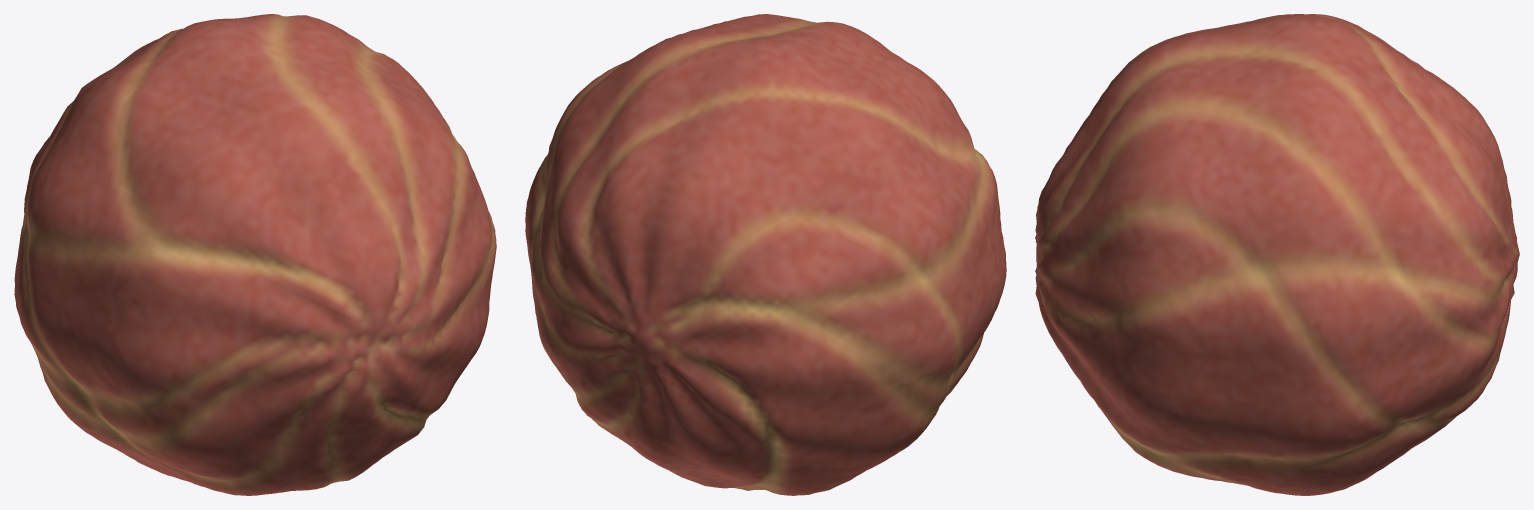
Rendered from planet_3.glb.
The picture shows the model from 3 angles, left to right: view 1: azimuth 30°, elevation 25°; view 2: azimuth 150°, elevation 25°; view 3: azimuth 270°, elevation 25°; orthographic projection.
Visible parts, largest first — view 1: world; view 2: world; view 3: world.
Part boxes in pixels (<box>): world: <box>14,14,496,495</box>; world: <box>525,14,1006,495</box>; world: <box>1035,14,1519,495</box>.
Size of the model in its own units: 2.02 by 2.03 by 2.02.
